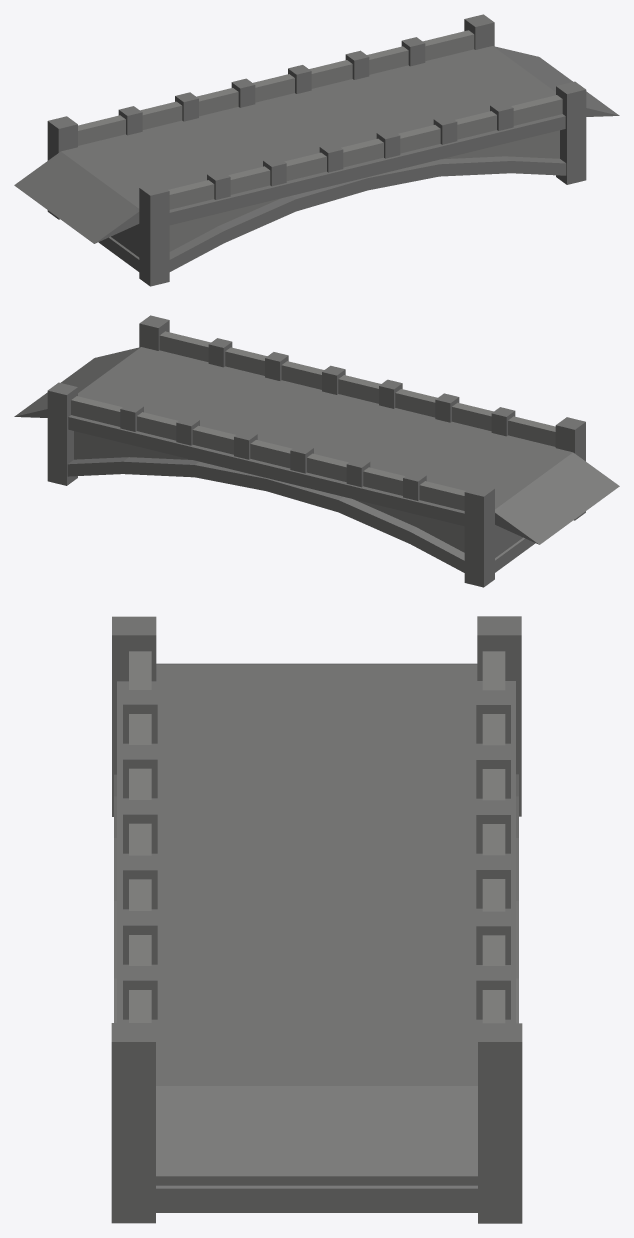
File: bridge small.fbx
3 renders of one model, top to bottom at view 1: azimuth 30°, elevation 25°; view 2: azimuth 150°, elevation 25°; view 3: azimuth 270°, elevation 25°, orthographic. The views are drawn at different scales.
Visible parts, largest first — view 1: bridge; view 2: bridge; view 3: bridge.
Boxes of the visible parts, x1,y1,x2,y2 form: bridge: (14, 14, 619, 286); bridge: (14, 315, 619, 587); bridge: (111, 616, 522, 1223).
Size of the model in its own units: 1885 by 311 by 638.
